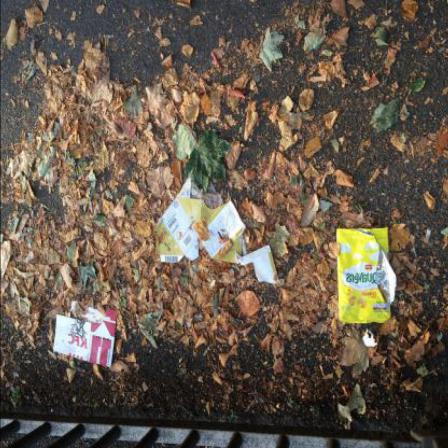Carton: (156, 177, 280, 285), (54, 302, 117, 368)
Cigarette: (425, 231, 432, 244), (86, 224, 95, 233)
Plastic bag - wrapper: (337, 229, 397, 325), (191, 174, 222, 210)
Unlabeled litter: (363, 330, 378, 348)
